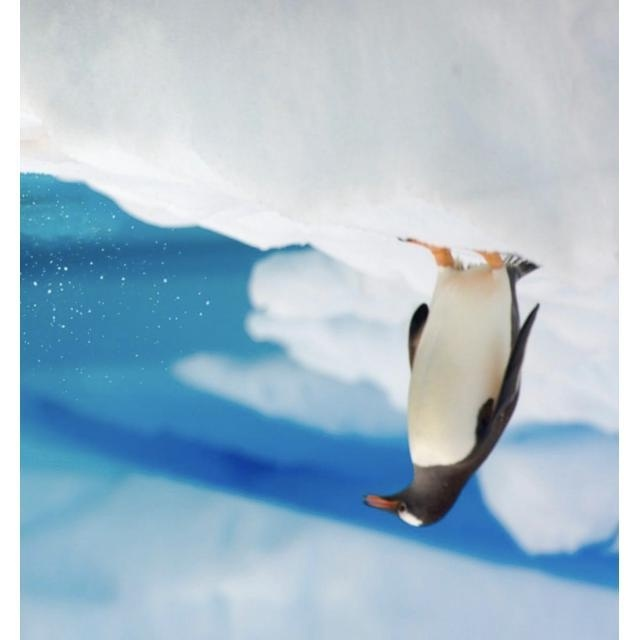penguin: (361, 236, 543, 528)
